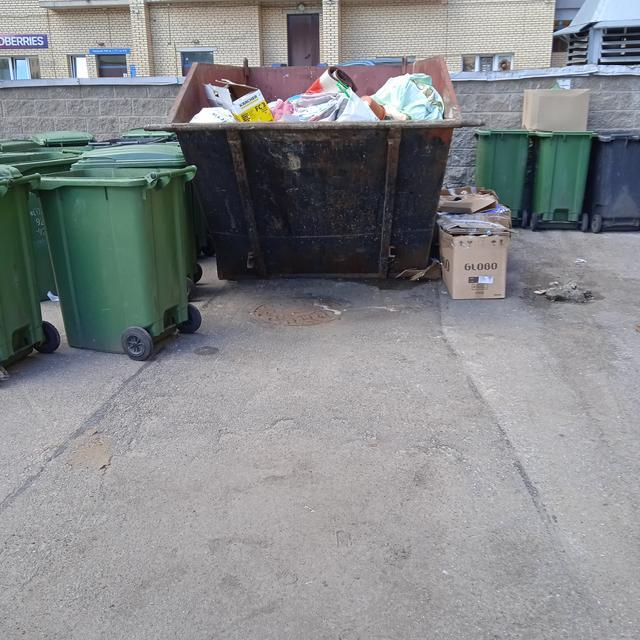Trash_Can_Empty: (40, 167, 198, 350), (530, 129, 594, 231), (472, 126, 530, 229), (588, 129, 640, 233)
